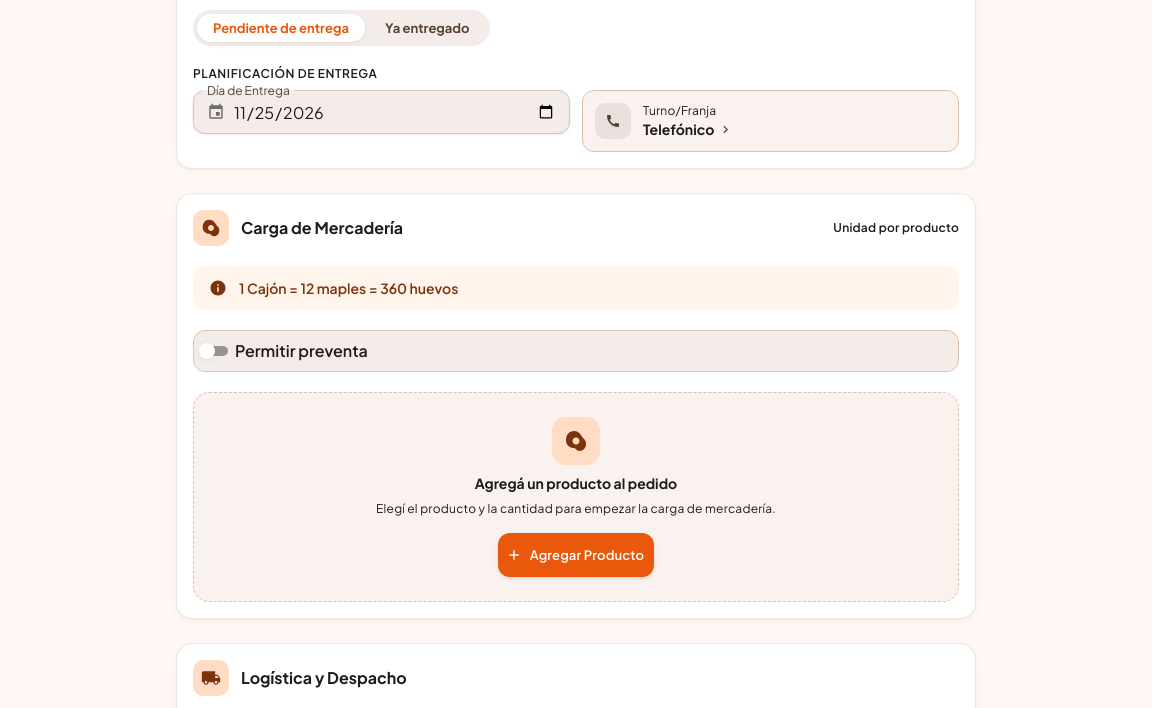
Test: NewOrderPage — empty order + stock gating › relaxes the stock gate when "Permitir preventa" is on (admin only)
The image size is (1152, 708).
Later steps or results of the test are not shown.
(page scrolled)
Check: the text "Agregá un producto al pedido" is shown, box [475,473,677,493]
Click the switch labelled "Permitir preventa" at (281, 351), box [195,339,368,363]
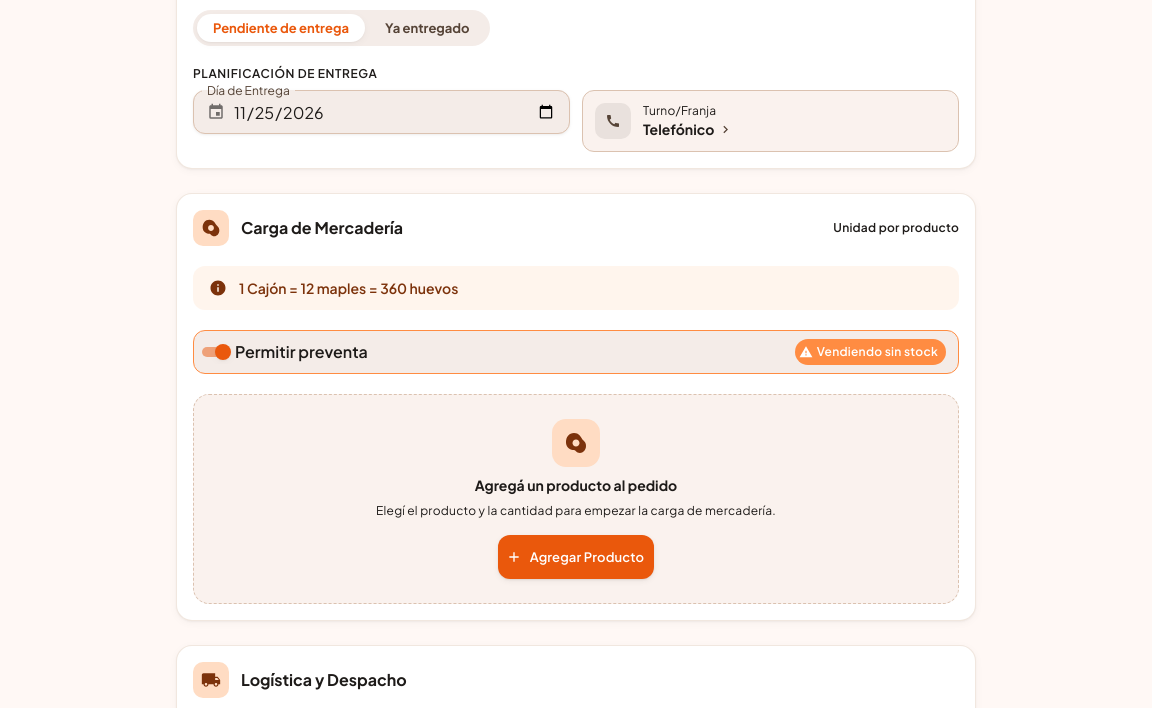
Check: the text "Vendiendo sin stock" is shown, box [809,342,946,362]
